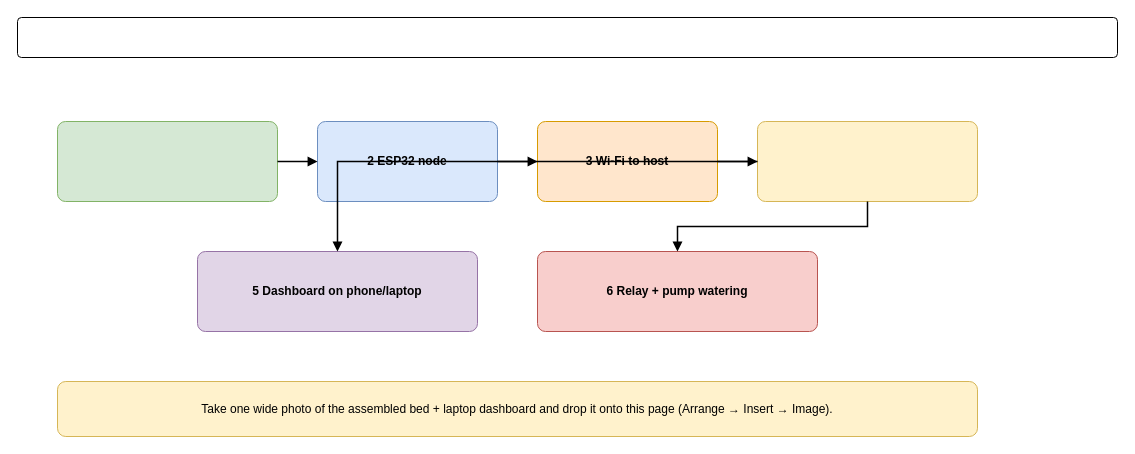
Image size: 1135x454. Some labels were removed from this diagram. The shapes that lost their labels are listed below. From the top down, each one's centre as x and y in pixels, then its label:
At pixel 567 37: "Figure 16 — Final working prototype (Sections 6.1 and 7.0)".
At pixel 167 161: "1 Sensors in soil / air".
At pixel 867 161: "4 FastAPI + XGBoost".
